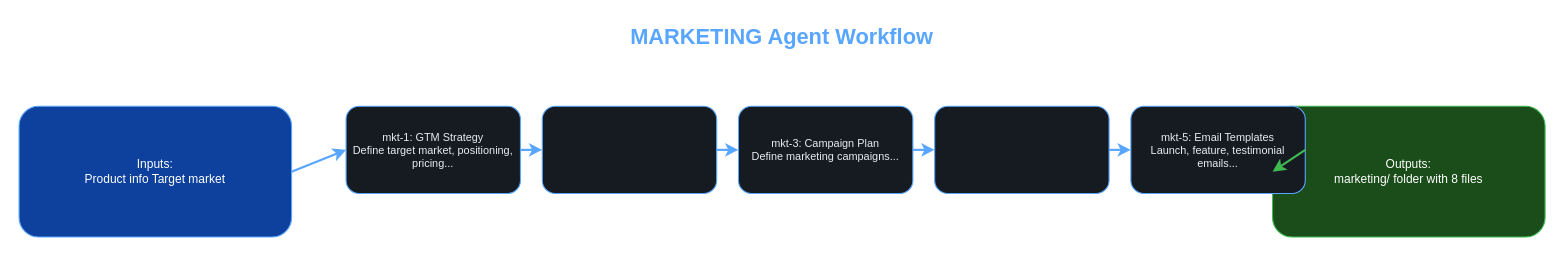
Image size: 1564x256. Some labels were removed from this diagram. The shapes that lost their labels are listed below. From the top down, each one's centre as x and y in pixels, then its label:
the point at 629,149: mkt-2: Content Calendar Create editorial calendar...
the point at 1021,149: mkt-4: Social Media Strategy Platform-specific tactics...
